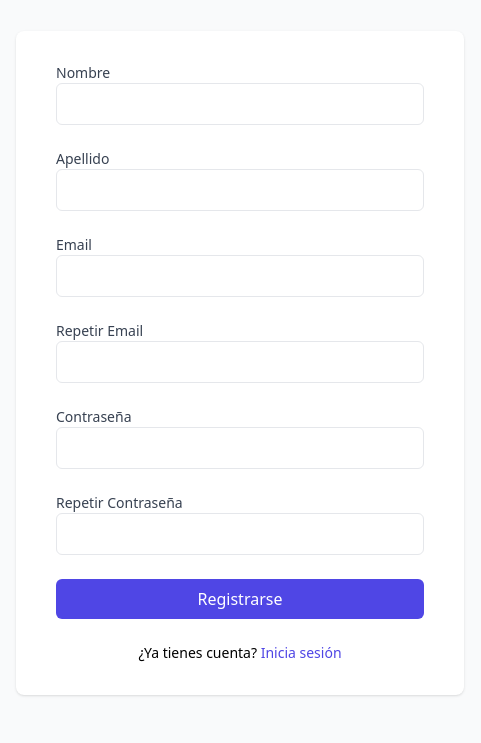
Scenario: RegisterForm › Interacciones de usuario › debe limpiar errores al cambiar campos
(page scrolled)
// Primero causar un error
Click the button "Registrarse" at (240, 599), box left=56, top=579, right=424, bottom=619
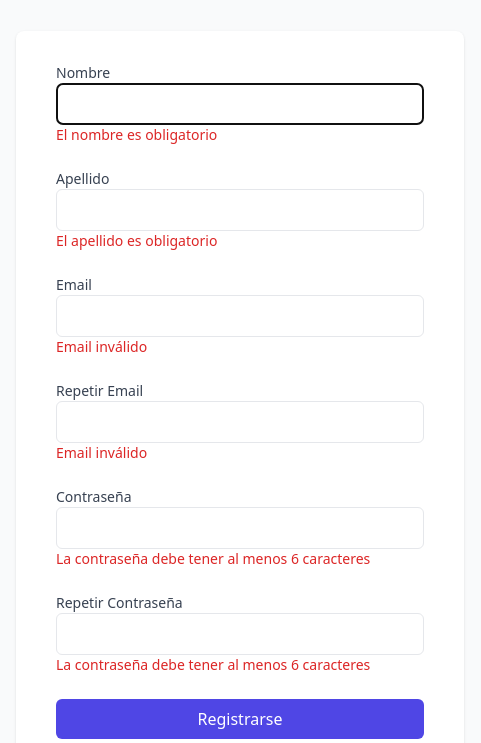
Check: the text "El nombre es obligatorio" is shown, box left=56, top=125, right=217, bottom=144
// Luego corregir el error
Type "Juan" into the field labelled "Nombre" at (240, 104), box left=56, top=83, right=424, bottom=125
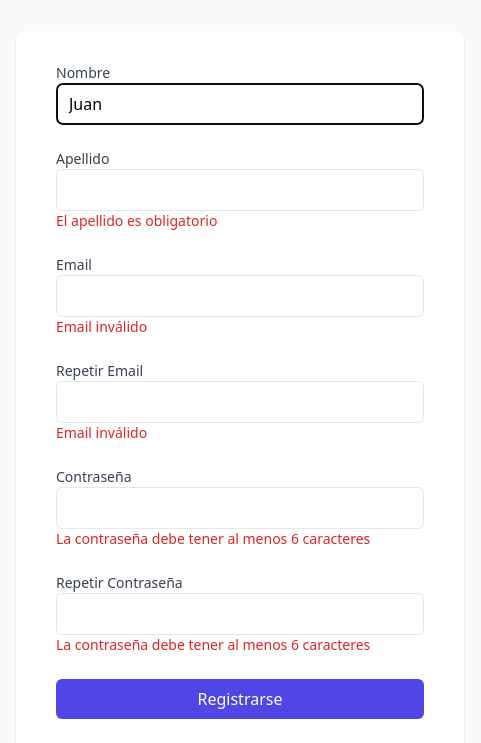
Check: the text "El nombre es obligatorio" is gone
